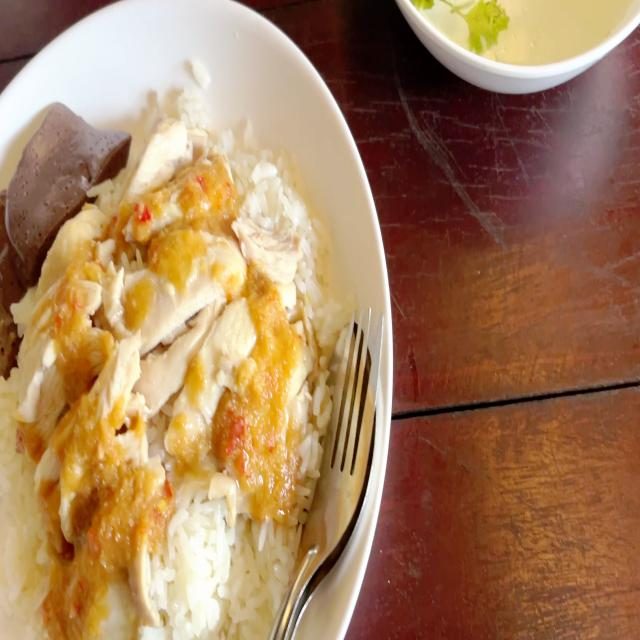boiled_chicken: (27, 137, 280, 536)
boiled_chicken_blood_jelly: (18, 104, 106, 245), (0, 186, 28, 376)
chicken_rice: (4, 46, 334, 640)
